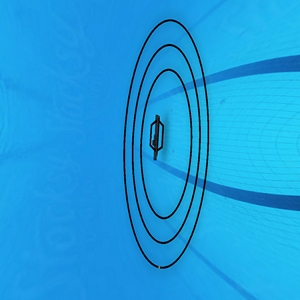circle: (121, 19, 211, 271)
submarine: (117, 22, 207, 271), (148, 114, 166, 161)
